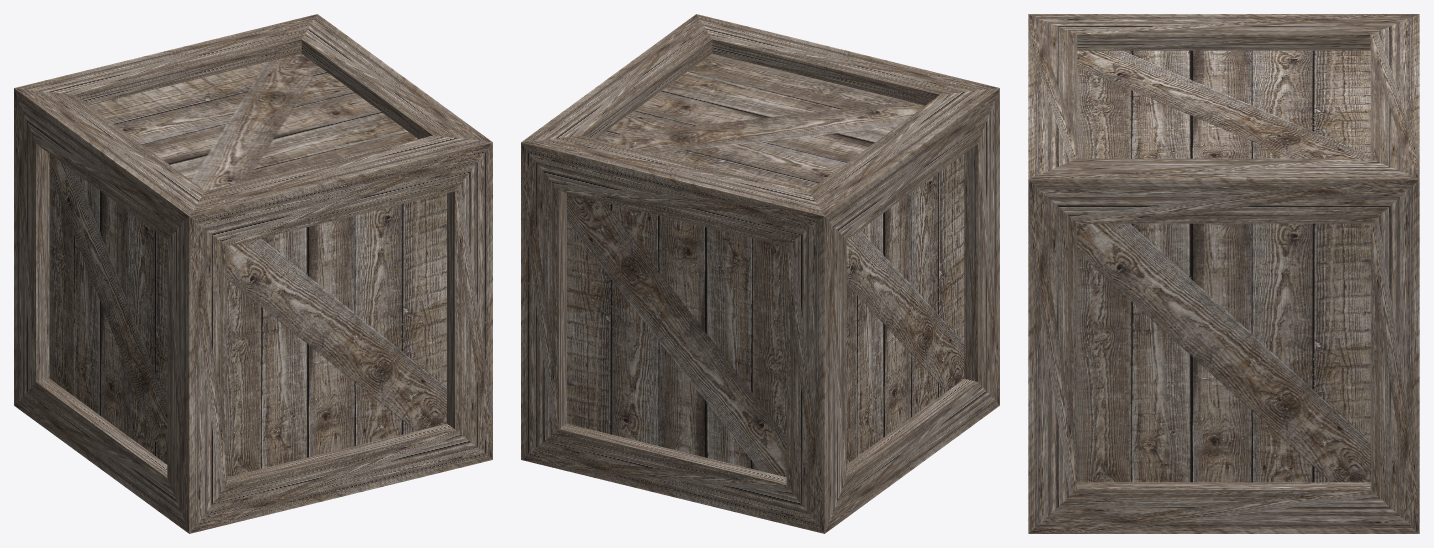
File: woodenBox.gltf
3 views of the same model, side by side, from view 1: azimuth 30°, elevation 25°; view 2: azimuth 150°, elevation 25°; view 3: azimuth 270°, elevation 25° (orthographic). The views are drawn at different scales.
Parts seen in each view (by area): view 1: Node; view 2: Node; view 3: Node.
Boxes of the visible parts, x1=… form: Node: x1=14, y1=14, x2=492, y2=533; Node: x1=521, y1=14, x2=999, y2=533; Node: x1=1028, y1=14, x2=1419, y2=533.
Size of the model in its own units: 2 by 2 by 2.
Materials: 1 (1 with a texture image).
